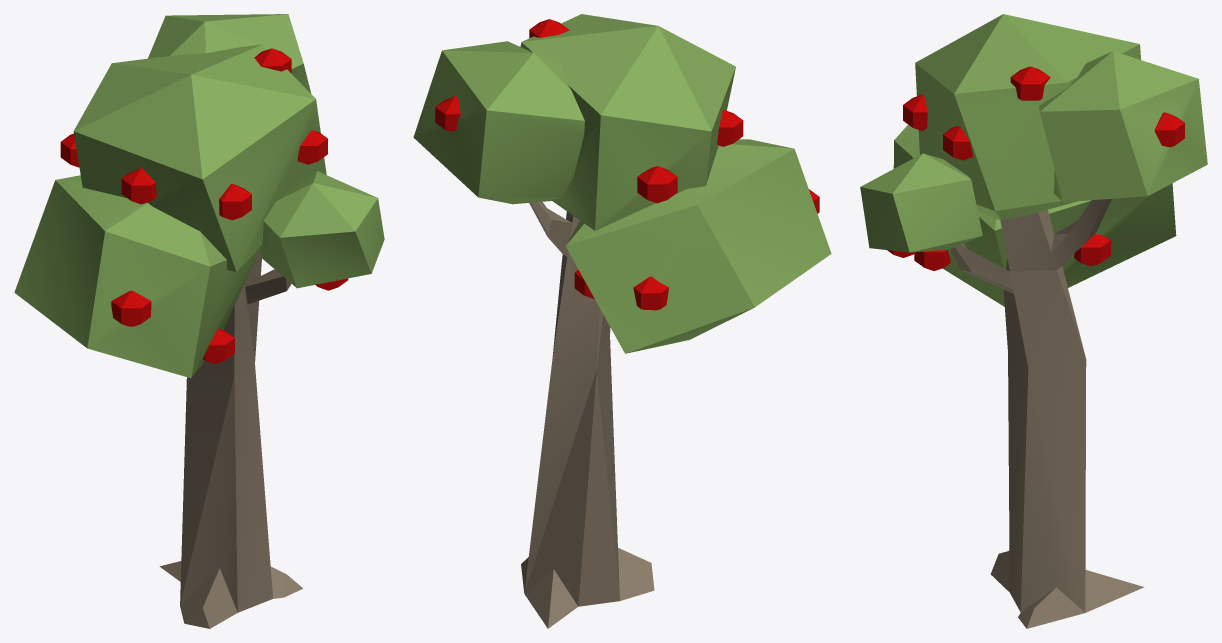
The model's file is Tree_Apple_02.fbx.
3 renders of one model, left to right at view 1: azimuth 30°, elevation 25°; view 2: azimuth 150°, elevation 25°; view 3: azimuth 270°, elevation 25°, orthographic.
Visible parts, largest first — view 1: Tree_Apple_02; view 2: Tree_Apple_02; view 3: Tree_Apple_02.
Boxes of the visible parts, x1,y1,x2,y2 form: Tree_Apple_02: (14, 14, 384, 628); Tree_Apple_02: (413, 14, 831, 628); Tree_Apple_02: (860, 14, 1207, 628).
Bounding box in the file's own units: 93.59 × 161 × 91.52.
